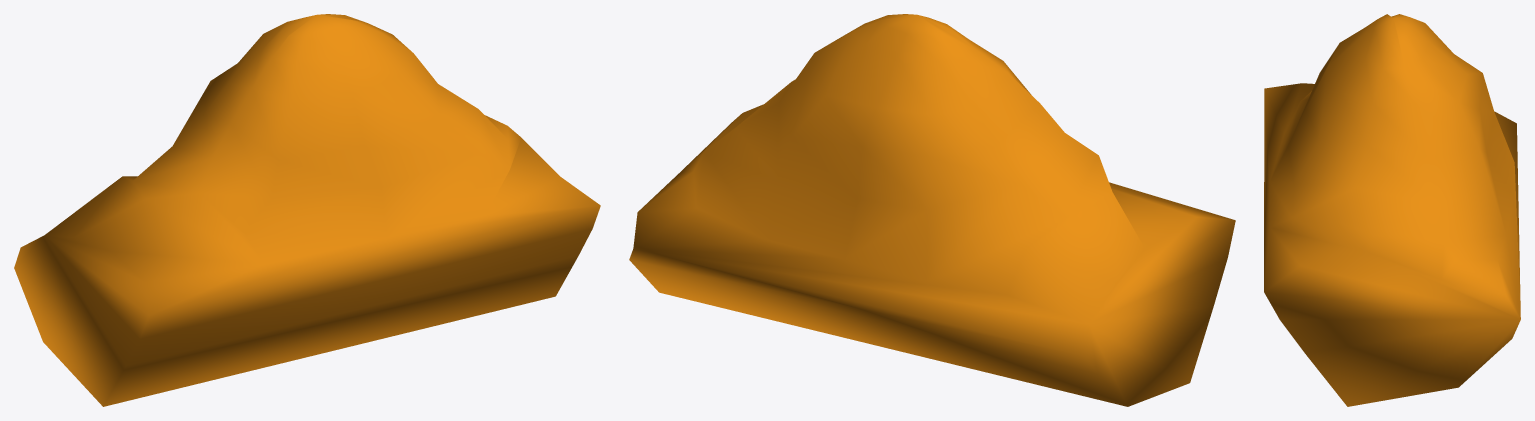
Rendered from sandpile.fbx.
3 renders of one model, left to right at view 1: azimuth 30°, elevation 25°; view 2: azimuth 150°, elevation 25°; view 3: azimuth 270°, elevation 25°, orthographic. The views are drawn at different scales.
Parts seen in each view (by area): view 1: Bump; view 2: Bump; view 3: Bump.
Boxes of the visible parts, x1,y1,x2,y2 form: Bump: (14,14,600,406); Bump: (629,14,1235,406); Bump: (1264,14,1520,406).
Bounding box in the file's own units: 255 × 170 × 135.
